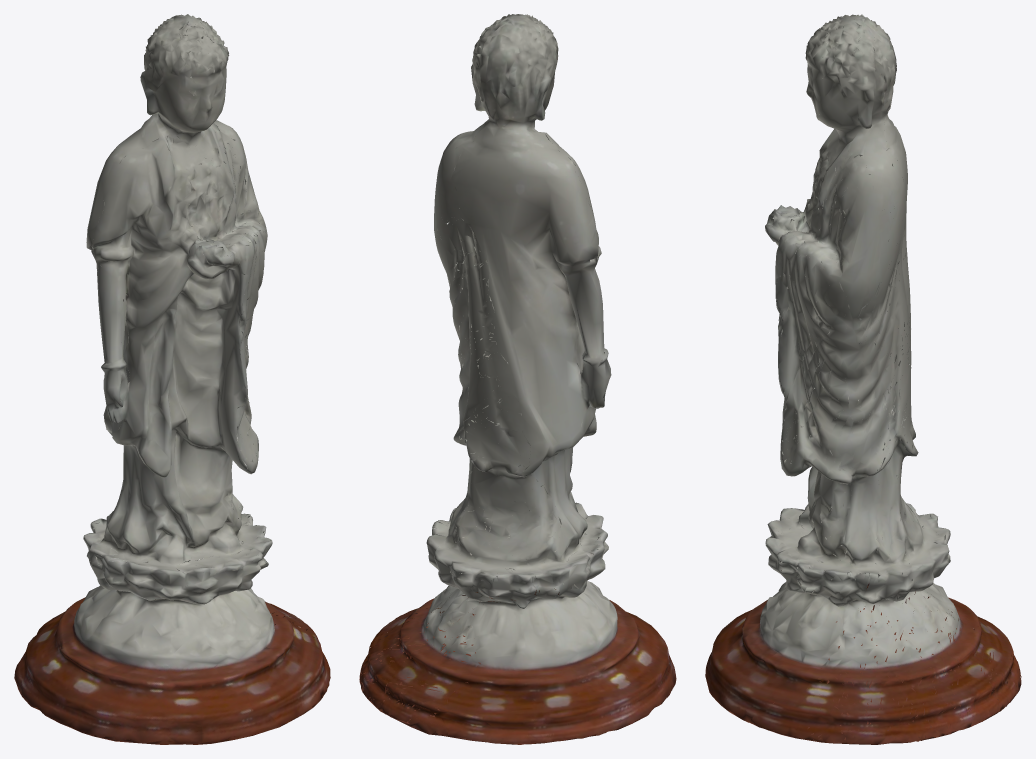
Rendered from amitabha-lod.glb.
3 renders of one model, left to right at view 1: azimuth 30°, elevation 25°; view 2: azimuth 150°, elevation 25°; view 3: azimuth 270°, elevation 25°, orthographic.
Visible parts, largest first — view 1: Object_5, Object_2, Object_3, Object_4, Object_6; view 2: Object_3, Object_2, Object_4, Object_5, Object_6; view 3: Object_4, Object_2, Object_3, Object_5, Object_6.
Part boxes in pixels (bbox=[...]): Object_5: bbox=[84, 140, 272, 604]; Object_2: bbox=[14, 286, 330, 744]; Object_3: bbox=[86, 14, 323, 683]; Object_4: bbox=[83, 15, 272, 576]; Object_6: bbox=[14, 16, 325, 744]; Object_3: bbox=[359, 15, 605, 735]; Object_2: bbox=[360, 280, 676, 744]; Object_4: bbox=[426, 14, 603, 608]; Object_5: bbox=[429, 132, 611, 607]; Object_6: bbox=[359, 14, 675, 744]; Object_4: bbox=[765, 16, 950, 606]; Object_2: bbox=[706, 548, 1021, 744]; Object_3: bbox=[755, 14, 1020, 743]; Object_5: bbox=[765, 128, 950, 604]; Object_6: bbox=[705, 16, 1021, 744].
Bounding box in the file's own units: 1.86 × 4.29 × 1.85.
Materials: 1 (1 with a texture image).
